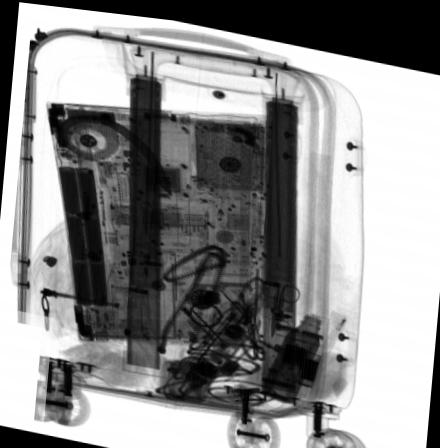Scissors: (257, 273, 301, 330)
